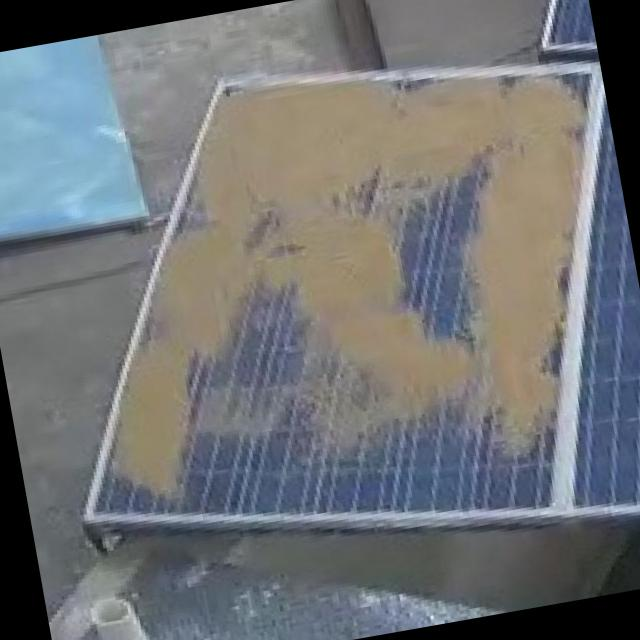faulty: (98, 78, 588, 507)
